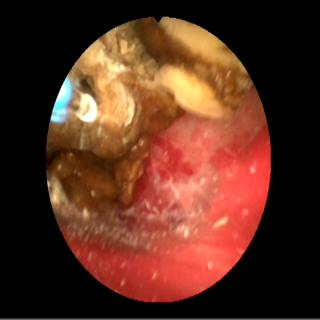fiber: (52, 80, 71, 120)
stone: (48, 20, 251, 226)
tissue: (66, 92, 267, 295)
